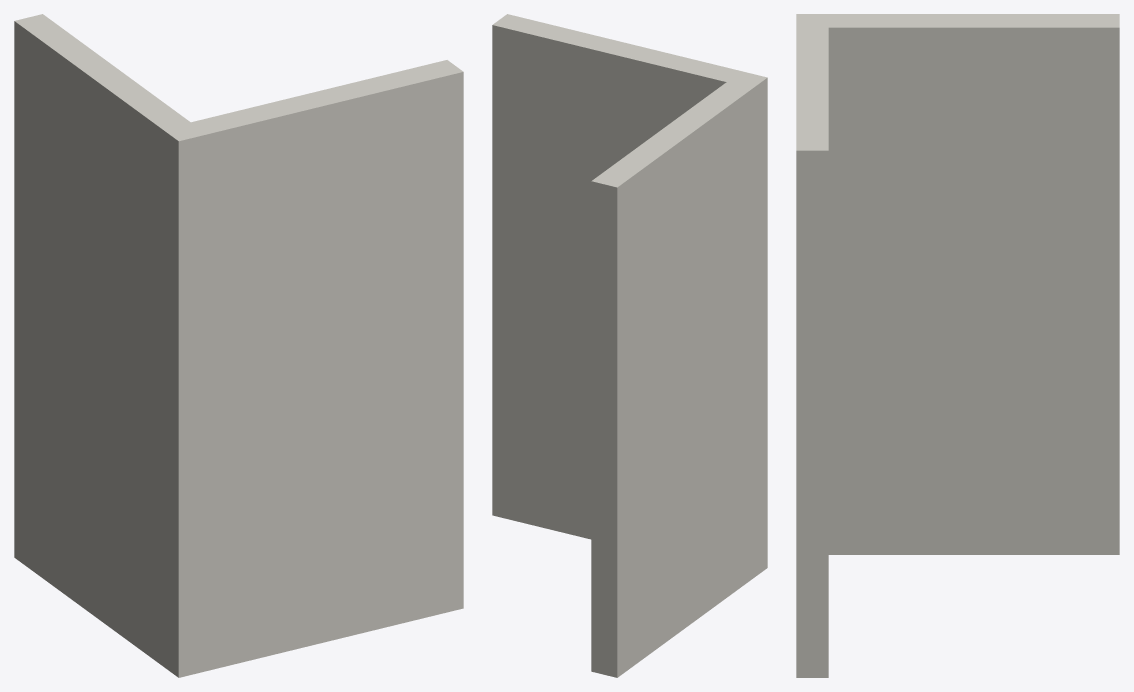
File: OA_Wall_CornerOuter_2m.fbx
3 views of the same model, side by side, from view 1: azimuth 30°, elevation 25°; view 2: azimuth 150°, elevation 25°; view 3: azimuth 270°, elevation 25° (orthographic). The views are drawn at different scales.
Parts seen in each view (by area): view 1: OA_Wall_CornerOuter_2m; view 2: OA_Wall_CornerOuter_2m; view 3: OA_Wall_CornerOuter_2m.
Part boxes in pixels (left/top/right/bottom): OA_Wall_CornerOuter_2m: left=14, top=14, right=463, bottom=677; OA_Wall_CornerOuter_2m: left=492, top=14, right=767, bottom=677; OA_Wall_CornerOuter_2m: left=796, top=14, right=1119, bottom=677.
Size of the model in its own units: 2 by 3.6 by 2.
Materials: 1 (1 with a texture image).
